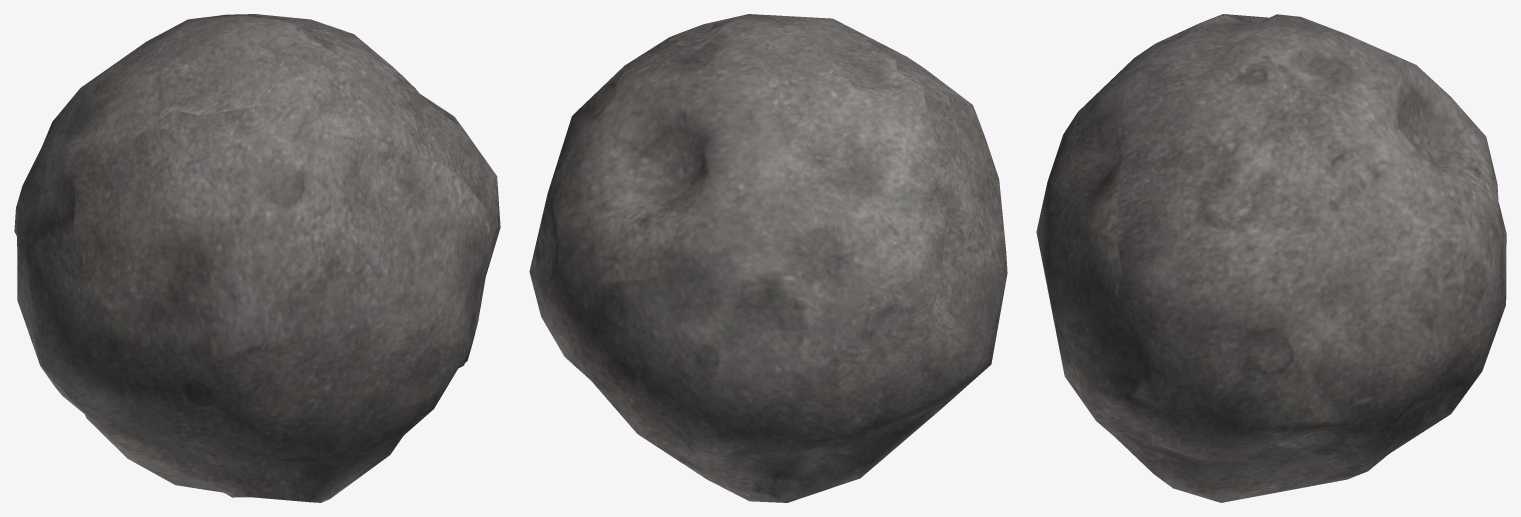
Rendered from Asteroid_01.FBX.
3 views of the same model, side by side, from view 1: azimuth 30°, elevation 25°; view 2: azimuth 150°, elevation 25°; view 3: azimuth 270°, elevation 25° (orthographic). The views are drawn at different scales.
Visible parts, largest first — view 1: Asteroid_01; view 2: Asteroid_01; view 3: Asteroid_01.
Boxes of the visible parts, left/top/right/bottom form: Asteroid_01: left=14, top=14, right=500, bottom=502; Asteroid_01: left=529, top=14, right=1007, bottom=502; Asteroid_01: left=1036, top=14, right=1506, bottom=502.
Size of what is drawn, in the model's own units: 58.51 by 60.86 by 56.39.
